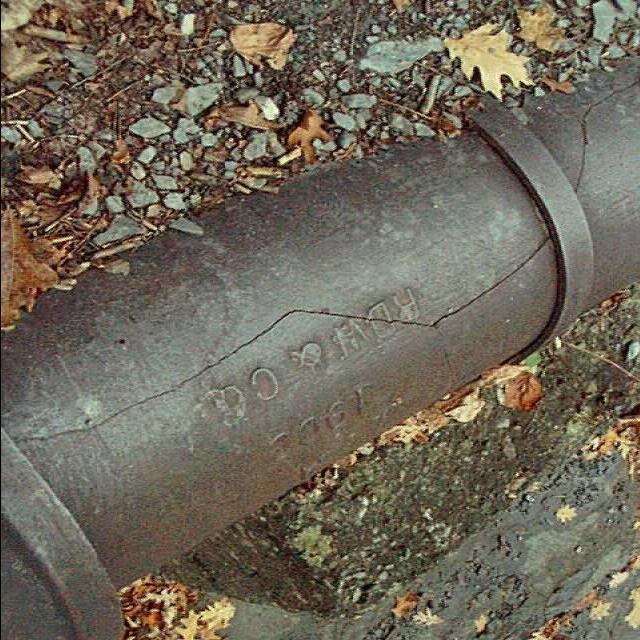defect: (6, 235, 551, 446), (571, 76, 638, 197)
